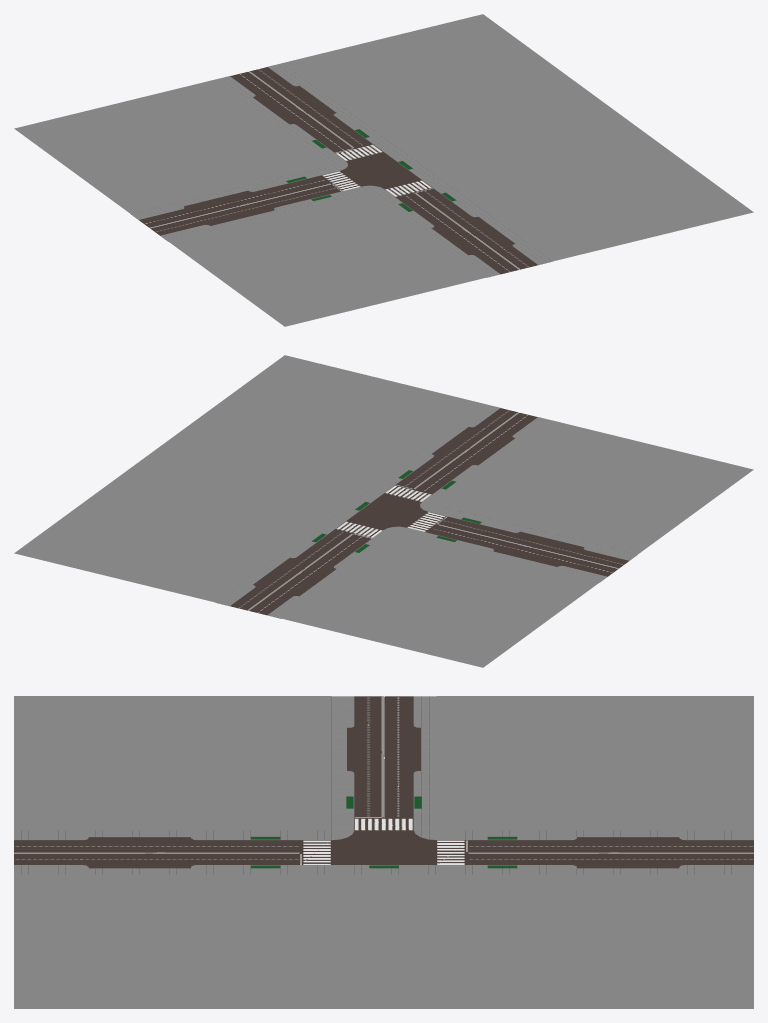
The model's file is TileCity5_2.fbx.
The picture shows the model from 3 angles, top to bottom: view 1: azimuth 30°, elevation 25°; view 2: azimuth 150°, elevation 25°; view 3: azimuth 270°, elevation 25°; orthographic projection. The views are drawn at different scales.
Visible parts, largest first — view 1: Sidewalk1.015, Road1.005, Road1.004, Road1.006, Sidewalk1.178, Sidewalk1.164, Sidewalk1.160; view 2: Sidewalk1.015, Road1.005, Road1.004, Road1.006, Sidewalk1.178, Sidewalk1.160, Sidewalk1.164; view 3: Sidewalk1.015, Road1.005, Road1.004, Road1.006, Sidewalk1.160, Sidewalk1.164, Sidewalk1.178, Sidewalk1.169, Sidewalk1.174, Sidewalk1.034, Road1.019, Road1.017 (+17 smaller).
Part boxes in pixels (x1,y1,x2,y2): Sidewalk1.015: (14, 14, 753, 326); Road1.005: (230, 67, 537, 274); Road1.004: (139, 176, 340, 235); Road1.006: (340, 152, 421, 189); Sidewalk1.178: (266, 169, 351, 208); Sidewalk1.164: (381, 184, 473, 220); Sidewalk1.160: (294, 121, 386, 156); Sidewalk1.015: (14, 355, 753, 667); Road1.005: (230, 408, 537, 615); Road1.004: (427, 517, 628, 576); Road1.006: (346, 493, 427, 530); Sidewalk1.178: (416, 510, 501, 549); Sidewalk1.160: (294, 525, 386, 561); Sidewalk1.164: (381, 462, 473, 497); Sidewalk1.015: (14, 696, 753, 1008); Road1.005: (14, 840, 753, 865); Road1.004: (354, 696, 413, 817); Road1.006: (331, 830, 436, 864); Sidewalk1.160: (465, 830, 539, 874); Sidewalk1.164: (228, 830, 302, 874); Sidewalk1.178: (331, 787, 436, 817); Sidewalk1.169: (606, 830, 650, 874); Sidewalk1.174: (117, 830, 161, 874); Sidewalk1.034: (331, 740, 436, 758); Road1.019: (354, 817, 413, 830); Road1.017: (436, 840, 468, 864).
Bounding box in the file's own units: 20000 × 10 × 20000.
